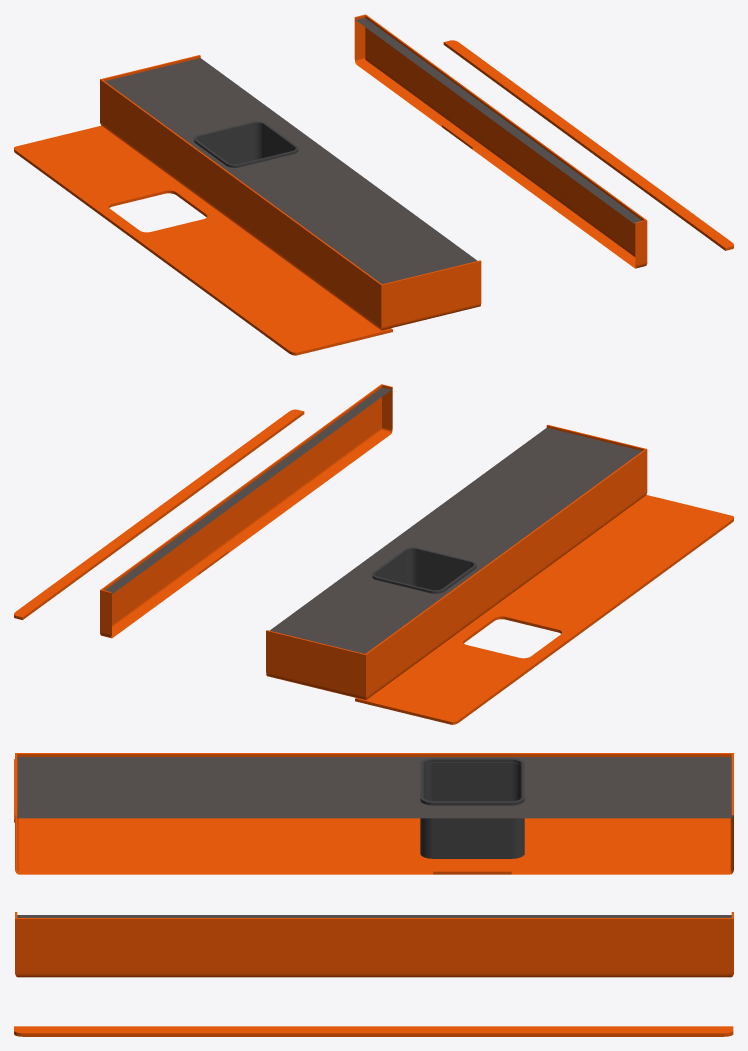
File: covers.glb
3 views of the same model, one above another, from view 1: azimuth 30°, elevation 25°; view 2: azimuth 150°, elevation 25°; view 3: azimuth 270°, elevation 25° (orthographic). The views are drawn at different scales.
Parts seen in each view (by area): view 1: T-RIGHT, T-LEFT, T-PICKET-BOTTOM, P-PICKET-BOTTOM, T-SPACING, P-PICKET-TOP, T-PICKET-TOP, P-RIGHT, P-LEFT, P-SPACING, KIELICH; view 2: T-RIGHT, T-LEFT, P-PICKET-BOTTOM, T-PICKET-BOTTOM, T-PICKET-TOP, T-SPACING, P-PICKET-TOP, P-LEFT, P-RIGHT, P-SPACING, KIELICH; view 3: T-RIGHT, T-PICKET-BOTTOM, T-SPACING, T-PICKET-TOP, KIELICH, P-RIGHT, T-LEFT.
Boxes of the visible parts, x1,y1,x2,y2 form: T-RIGHT: (354, 14, 647, 268); T-LEFT: (100, 76, 392, 330); T-PICKET-BOTTOM: (232, 151, 458, 327); P-PICKET-BOTTOM: (141, 214, 370, 353); T-SPACING: (178, 55, 481, 311); P-PICKET-TOP: (23, 128, 176, 207); T-PICKET-TOP: (111, 60, 256, 139); P-RIGHT: (443, 40, 733, 250); P-LEFT: (14, 145, 304, 355); P-SPACING: (89, 125, 392, 337); KIELICH: (194, 121, 298, 167); T-RIGHT: (100, 384, 392, 638); T-LEFT: (354, 446, 647, 700); P-PICKET-BOTTOM: (494, 498, 724, 633); T-PICKET-BOTTOM: (413, 430, 635, 565); T-PICKET-TOP: (288, 577, 437, 697); T-SPACING: (266, 425, 569, 681); P-PICKET-TOP: (377, 640, 529, 722); P-LEFT: (443, 514, 733, 724); P-RIGHT: (14, 409, 304, 619); P-SPACING: (355, 495, 658, 706); KIELICH: (372, 547, 476, 593); T-RIGHT: (15, 912, 733, 977); T-PICKET-BOTTOM: (15, 760, 429, 859); T-SPACING: (15, 801, 733, 874); T-PICKET-TOP: (515, 760, 733, 859); KIELICH: (420, 758, 524, 858); P-RIGHT: (14, 1026, 733, 1036); T-LEFT: (15, 753, 733, 818).
Bounding box in the file's own units: 1 × 0.106 × 1.1.
